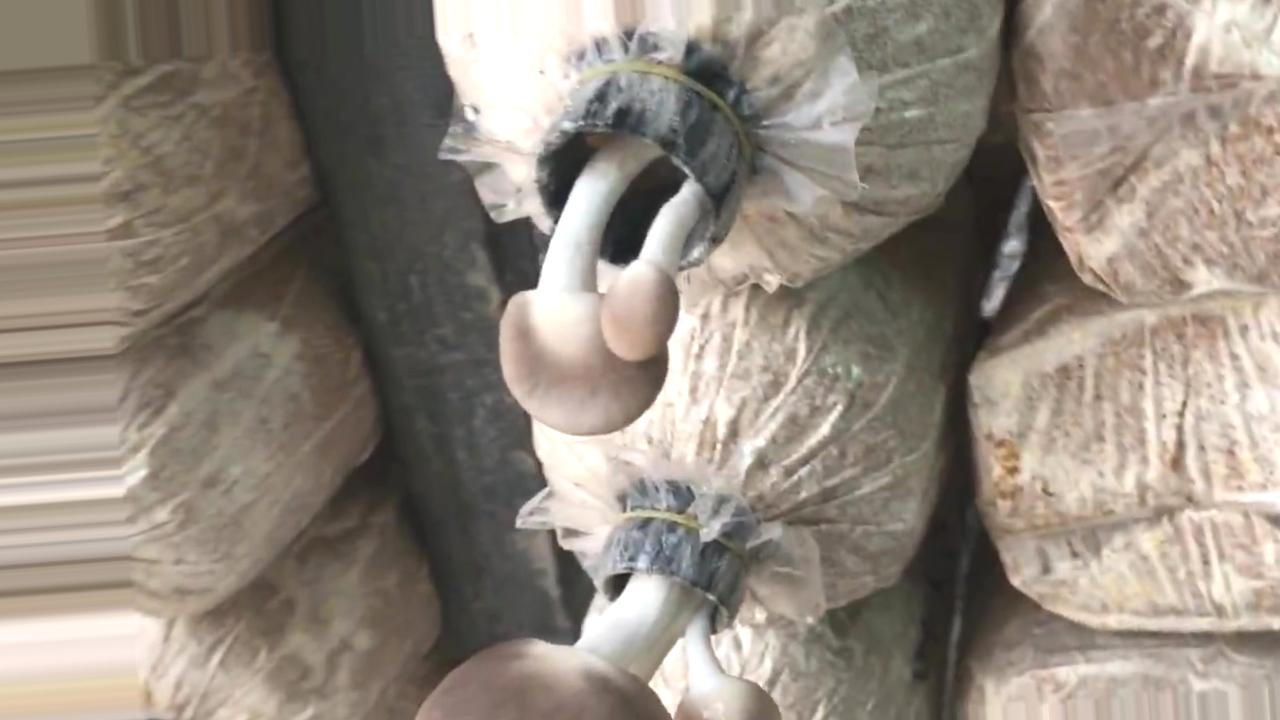nam: (502, 66, 751, 434), (420, 512, 780, 720)
